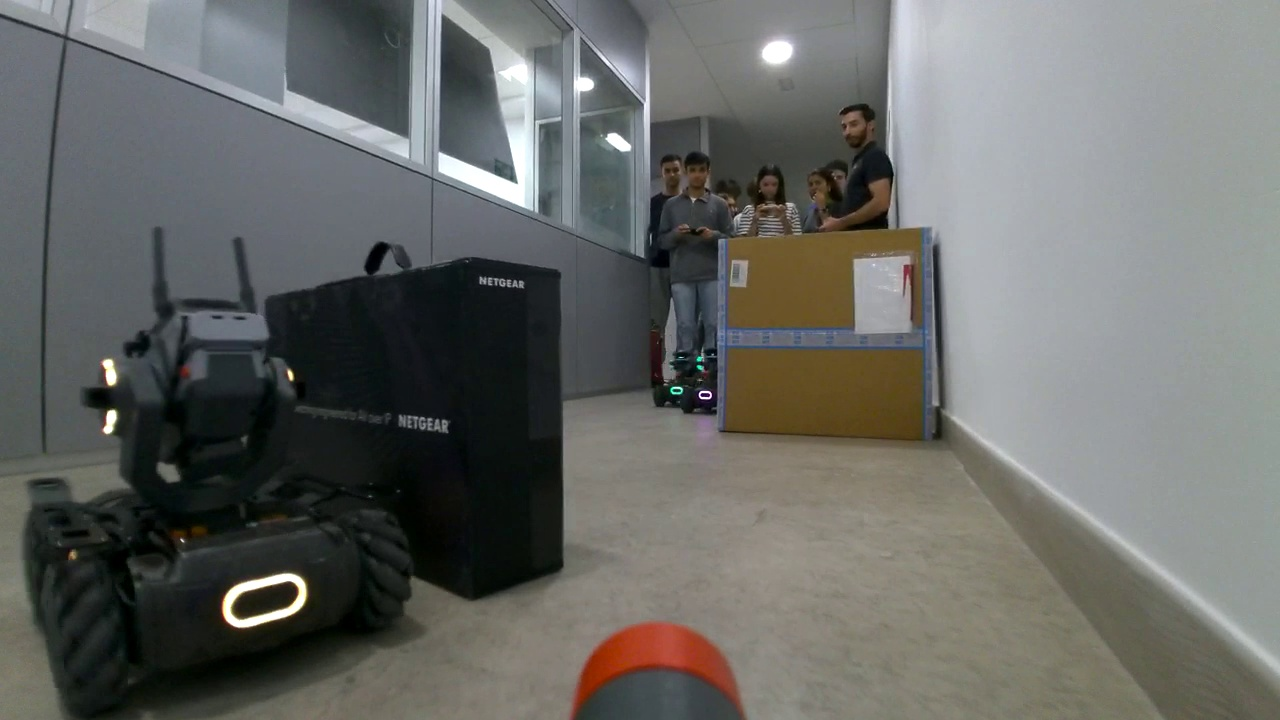robot: (17, 297, 421, 719), (649, 350, 694, 408), (687, 349, 719, 414)
